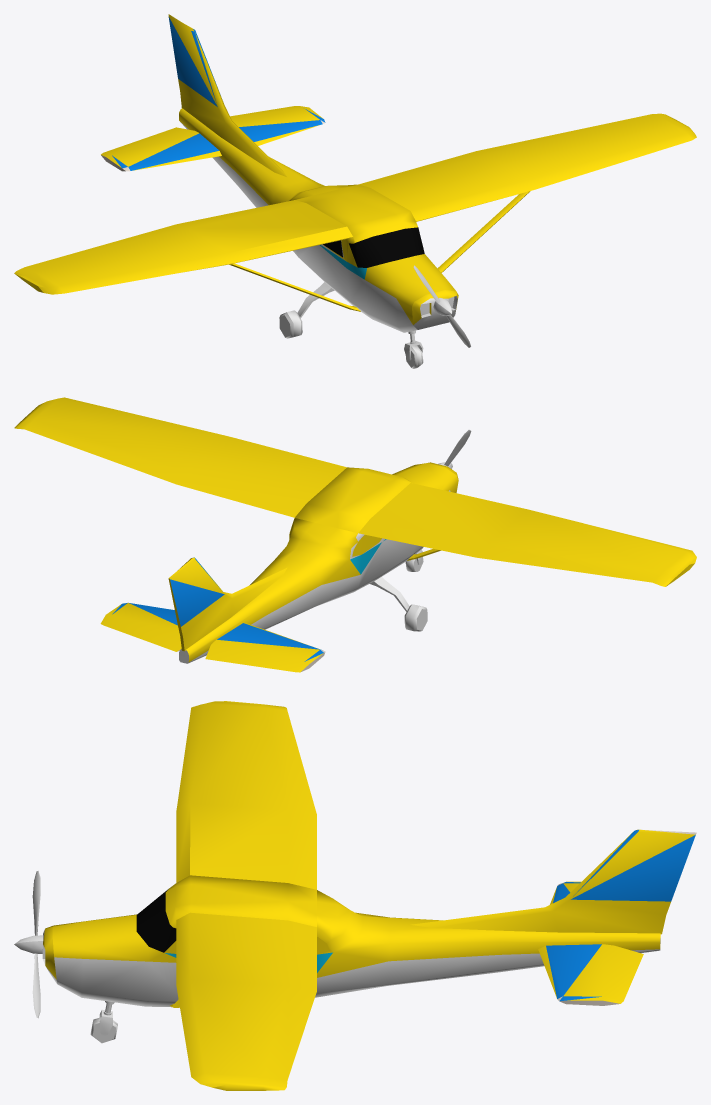
The model's file is Dragonfly.fbx.
3 renders of one model, top to bottom at view 1: azimuth 30°, elevation 25°; view 2: azimuth 150°, elevation 25°; view 3: azimuth 270°, elevation 25°, orthographic. The views are drawn at different scales.
Visible parts, largest first — view 1: Body, Left_Wing, Right_Wing, Tail, Right_Wheel, Propeller; view 2: Left_Wing, Right_Wing, Body, Tail, Right_Wheel; view 3: Body, Right_Wing, Left_Wing, Tail, Propeller, Front_Wheel.
Part boxes in pixels (x1,y1,x2,y2): Body: (179,108,458,332); Left_Wing: (358,113,696,272); Right_Wing: (14,200,360,311); Tail: (101,14,325,176); Right_Wheel: (279,282,334,338); Propeller: (413,265,470,347); Left_Wing: (14,397,346,517); Right_Wing: (358,483,696,586); Body: (179,462,458,663); Tail: (100,557,325,672); Right_Wheel: (369,577,427,631); Body: (42,875,660,1007); Right_Wing: (176,701,316,889); Left_Wing: (170,912,316,1090); Tail: (410,829,696,1005); Propeller: (14,870,43,1018); Front_Wheel: (90,1001,117,1043).
Bounding box in the file's own units: 13.01 × 3.36 × 9.79.
